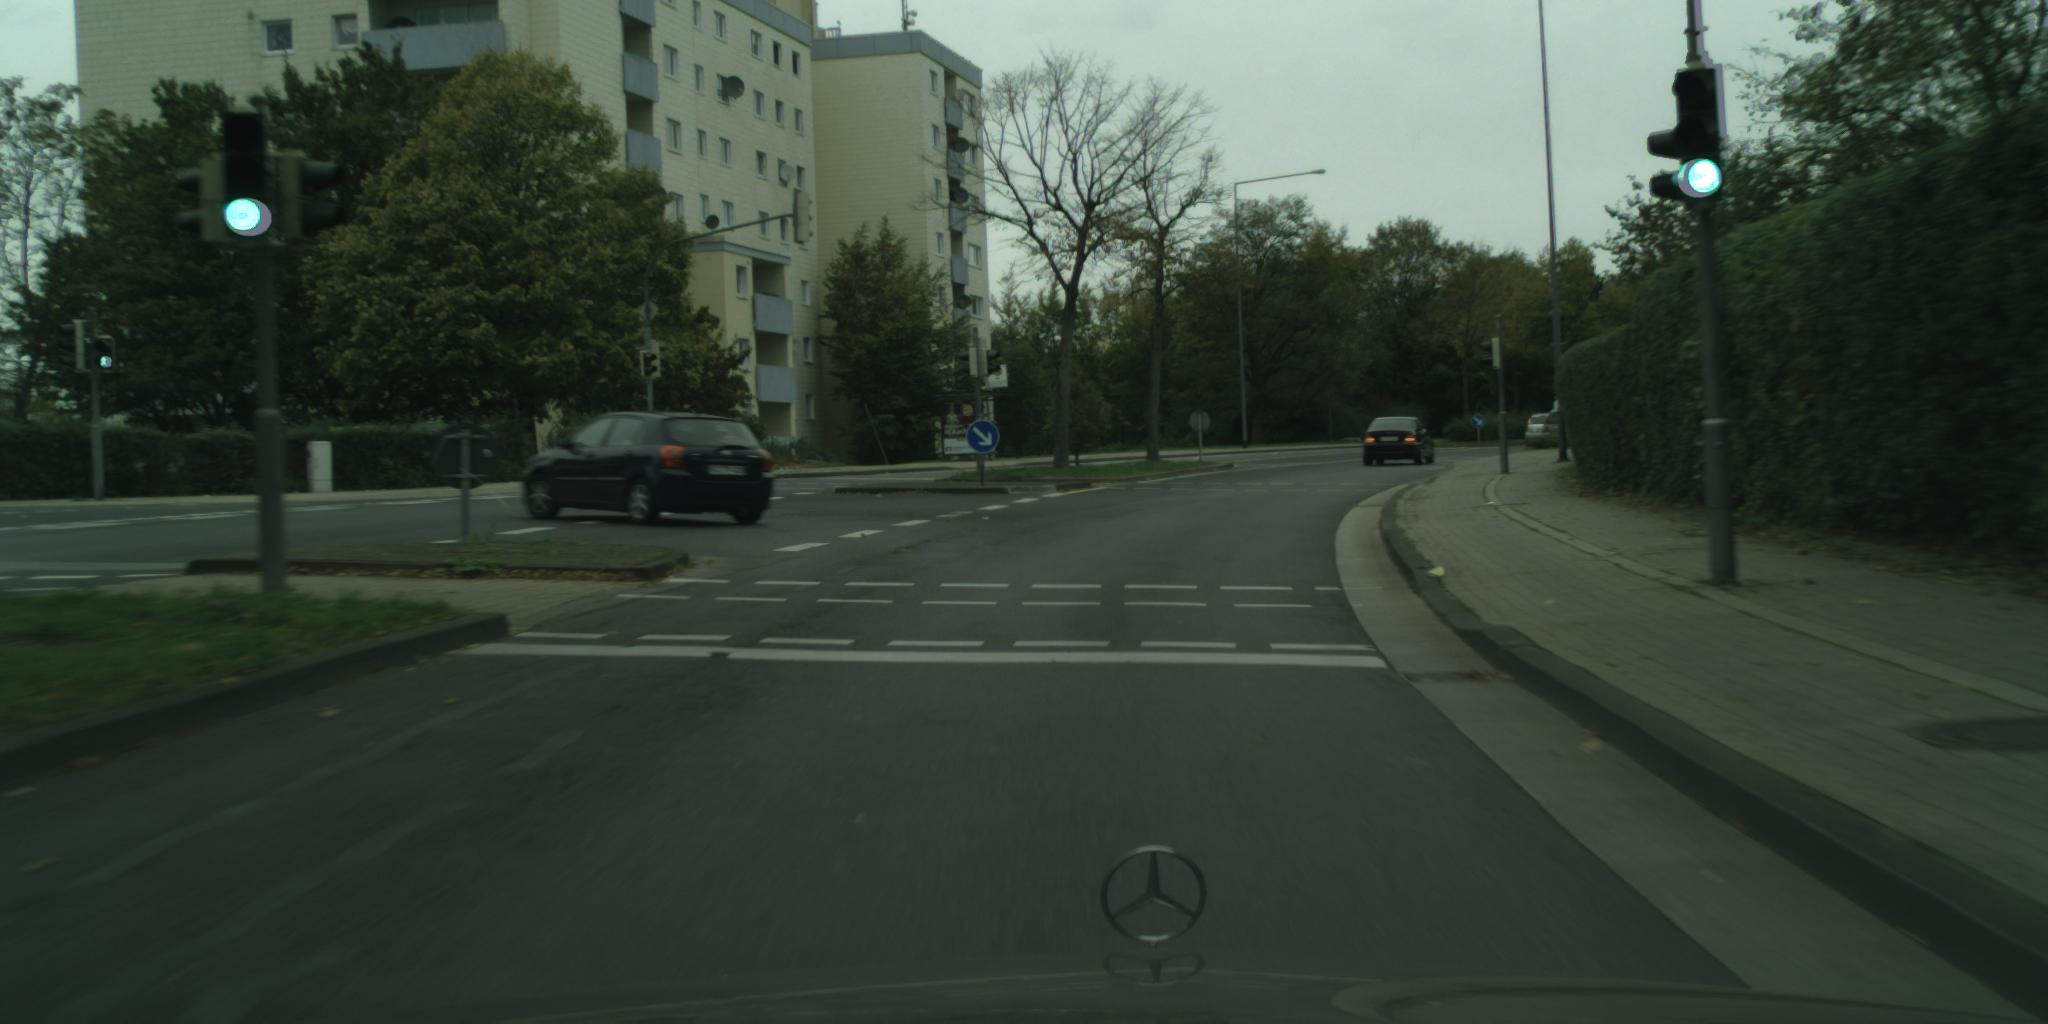car: (517, 411, 778, 526), (1362, 417, 1435, 468), (1526, 413, 1580, 443), (1543, 411, 1578, 445), (1550, 398, 1569, 417)
